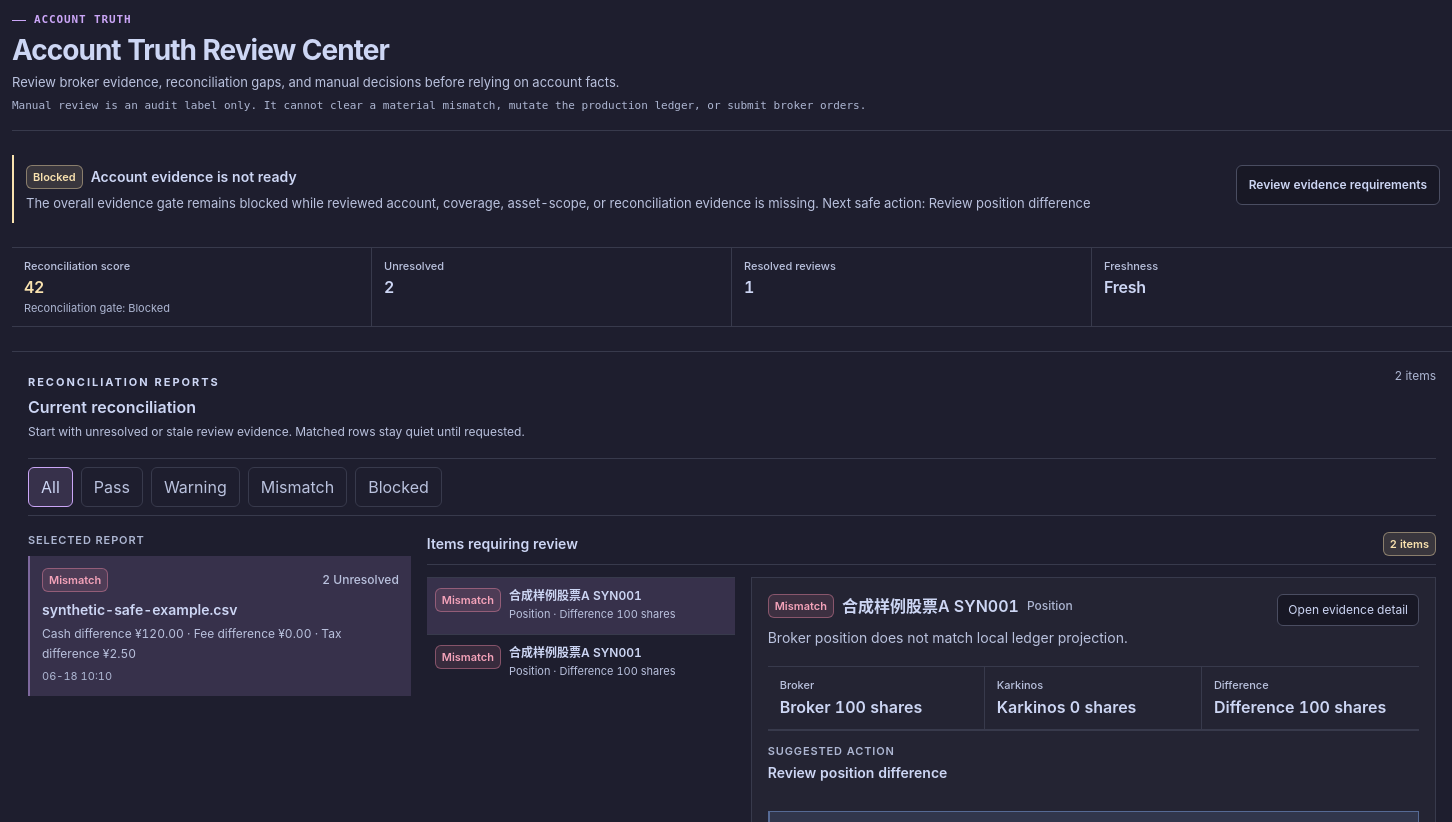
Test: keeps repeated reconciliation evidence rows as distinct selectable instances
Click the button with test id "account-truth-item-selector-position:SYN001".
click(581, 663)  # box [427,635,735,691]
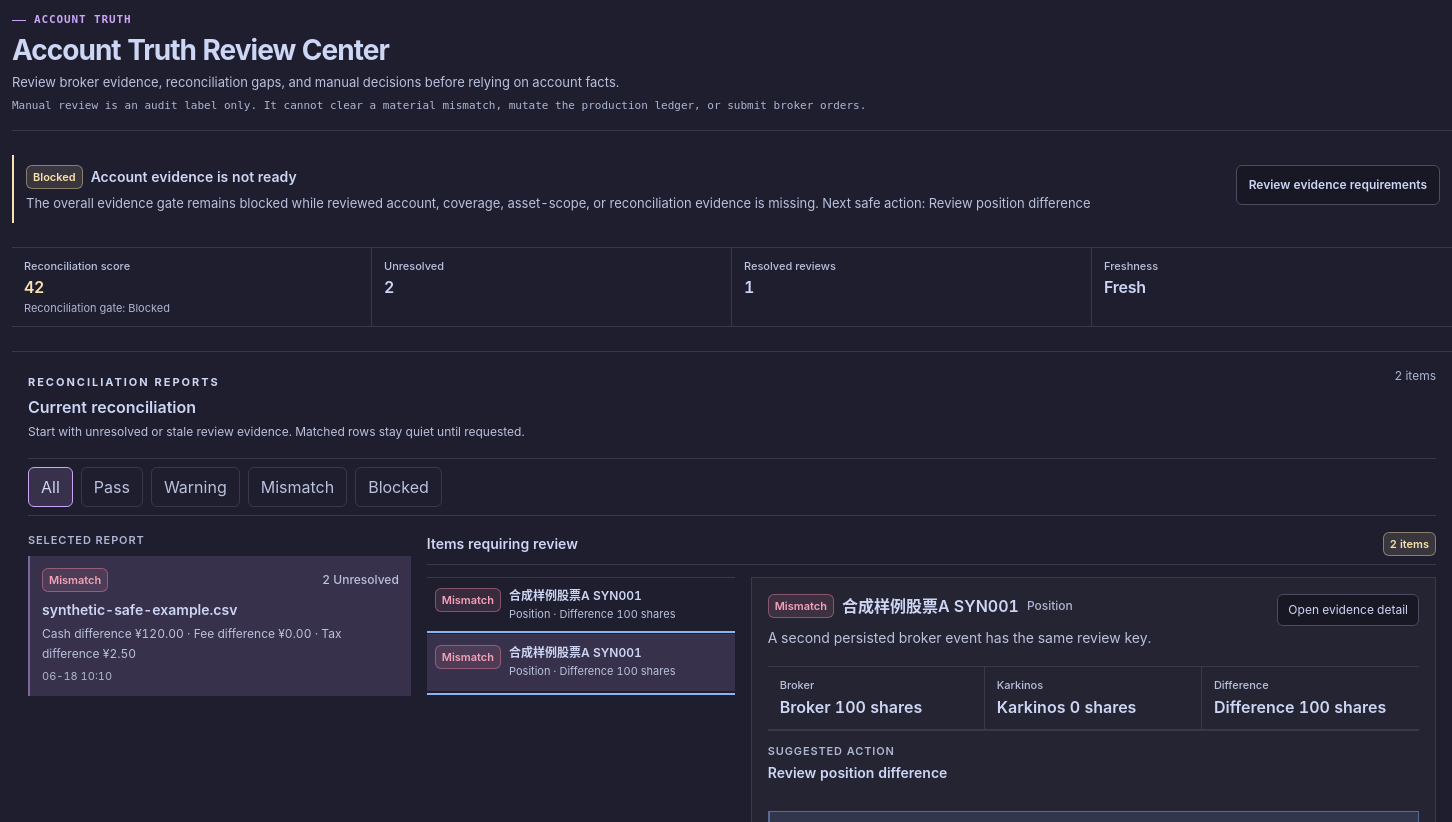
Result: the text "A second persisted broker event has the same review key." is shown at [768,626,1151,650]
